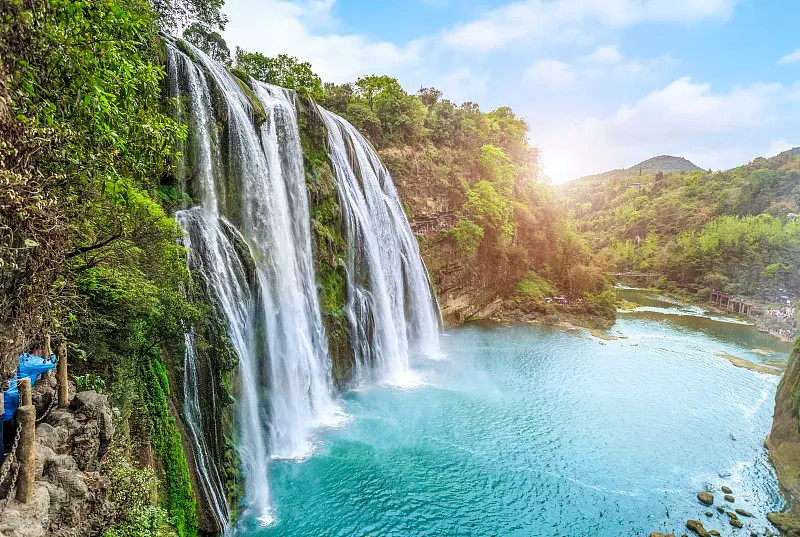Huangguoshu: (163, 35, 447, 529)
